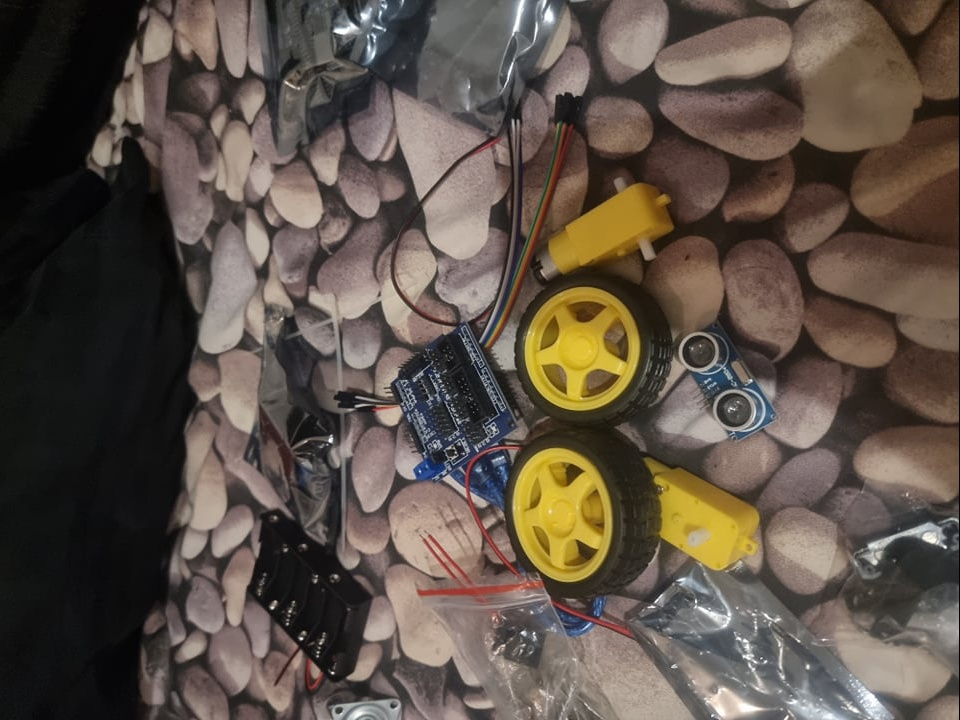5V EXPANSION: (392, 325, 520, 479)
BATTERY BOX: (246, 508, 376, 682)
SENSOR: (676, 318, 775, 439)
